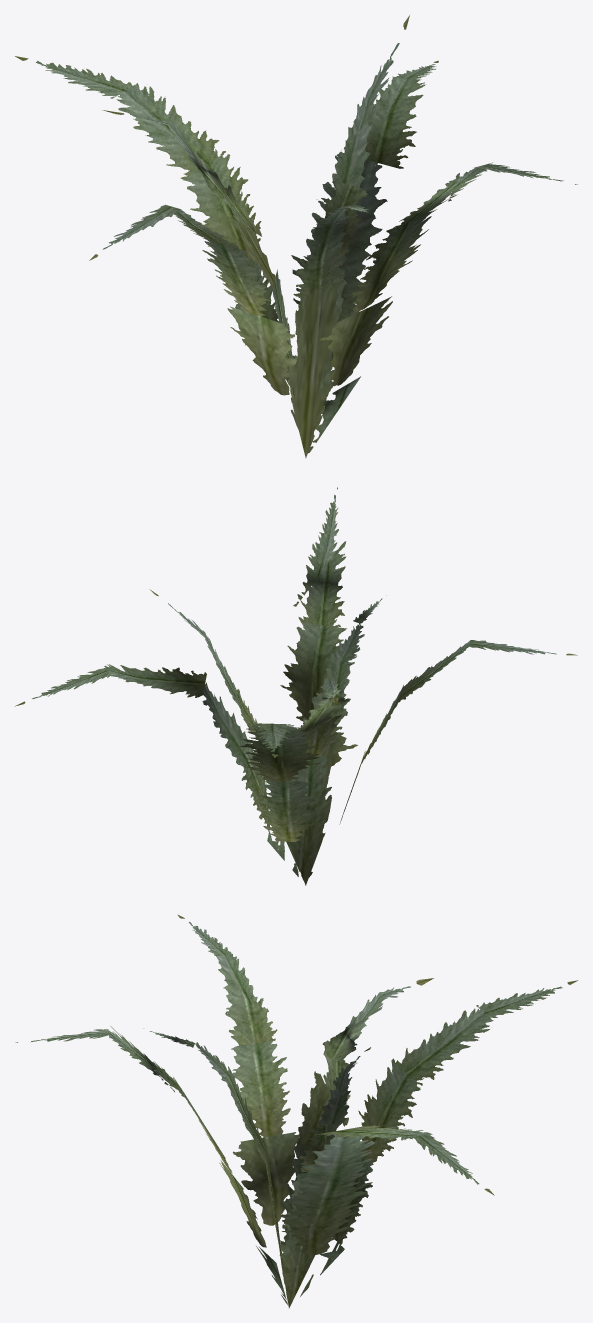
File: OW_LOB_BUSH_V1.glb
3 renders of one model, top to bottom at view 1: azimuth 30°, elevation 25°; view 2: azimuth 150°, elevation 25°; view 3: azimuth 270°, elevation 25°, orthographic. The views are drawn at different scales.
Visible parts, largest first — view 1: Mesh; view 2: Mesh; view 3: Mesh.
Boxes of the visible parts, <box> form: Mesh: <box>15,15,577,458</box>; Mesh: <box>15,487,577,885</box>; Mesh: <box>15,914,577,1308</box>.
Size of the model in its own units: 4.36 by 2.92 by 4.57.
1 material, 1 textured.
